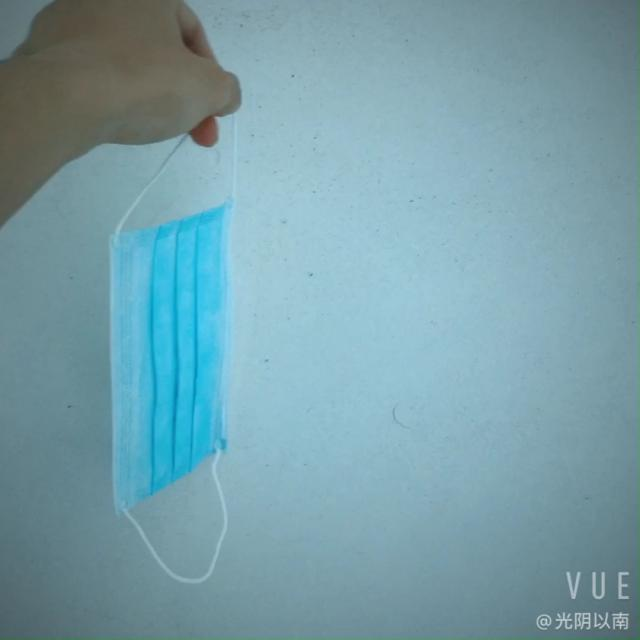non-organic waste: (92, 207, 237, 540)
